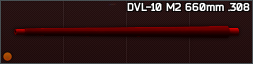DVL-10 M2 .308 660mm barrel: (0, 0, 253, 64)
